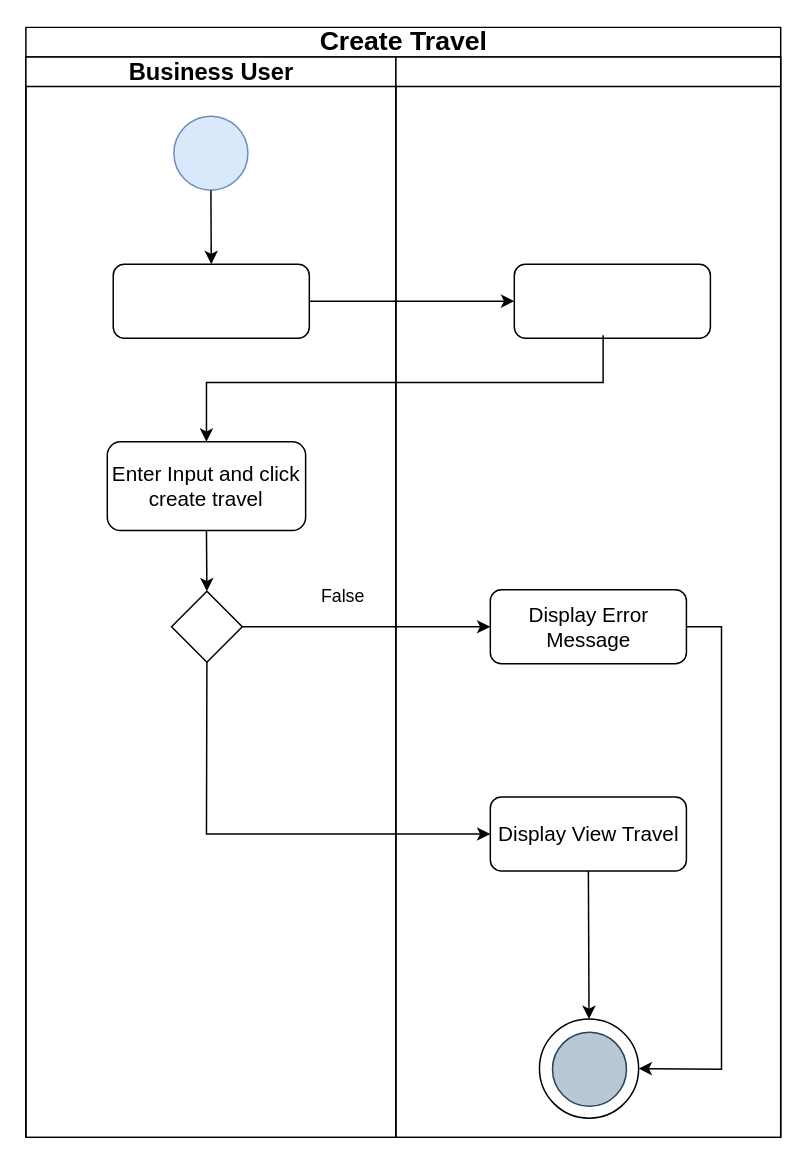
The diagram is 807 pixels wide and 1163 high, and some of its shapes have lost their labels. Here are the shapes that lost their labels. From the top down, the box of each, then its label:
(112, 263, 309, 338): Click on "Create Travel" icon
(513, 263, 710, 338): Display Travel input
(394, 56, 781, 1137): UI Client
